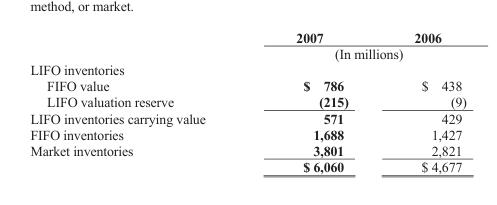table: (29, 29, 465, 174)
table column: (29, 29, 250, 174), (250, 29, 380, 174), (380, 29, 465, 174)
table column header: (29, 29, 465, 61)
table projected row header: (29, 61, 465, 77)
table row: (29, 141, 465, 158), (29, 29, 465, 45), (29, 45, 465, 61), (29, 61, 465, 77), (29, 77, 465, 93), (29, 93, 465, 109), (29, 109, 465, 125), (29, 125, 465, 141), (29, 158, 465, 174)
table spanning cell: (250, 45, 465, 61)
